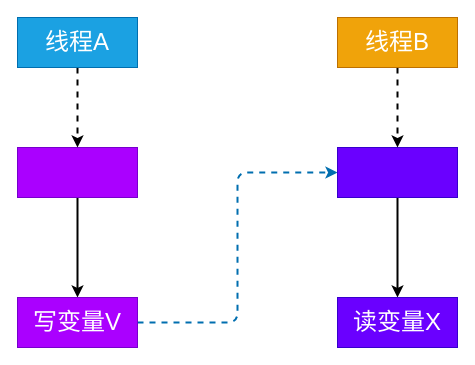
This 475x365 diagram has some shape labels left out. The shapes that lost their labels are listed below. From the top down, each one's centre as x and y in pixels, then its label:
At point (77, 172): "x=42".
At point (397, 172): "读变量V".
